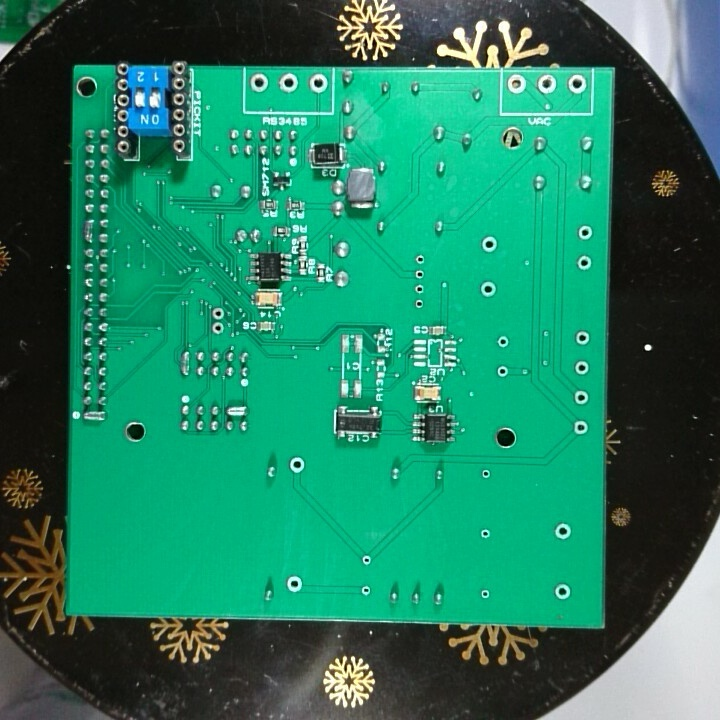F: (246, 70, 271, 97), (563, 71, 588, 98), (534, 72, 559, 98), (505, 70, 528, 98), (275, 72, 299, 95), (305, 72, 329, 95), (550, 520, 574, 543), (551, 581, 574, 605), (477, 278, 499, 302), (569, 386, 591, 408), (284, 573, 305, 596), (477, 234, 499, 255), (569, 416, 590, 438), (574, 222, 595, 243), (571, 328, 593, 348), (573, 254, 593, 274), (288, 455, 308, 475), (571, 359, 592, 378), (475, 524, 494, 543), (494, 332, 512, 352), (410, 250, 430, 268), (208, 320, 226, 338), (493, 363, 511, 381), (209, 305, 228, 322), (475, 586, 494, 603), (478, 466, 494, 485), (411, 266, 429, 281), (410, 296, 426, 312), (357, 582, 373, 598), (359, 552, 374, 569), (412, 282, 427, 297)
P: (177, 347, 194, 379), (222, 403, 251, 420), (78, 409, 110, 424), (81, 217, 97, 245)
